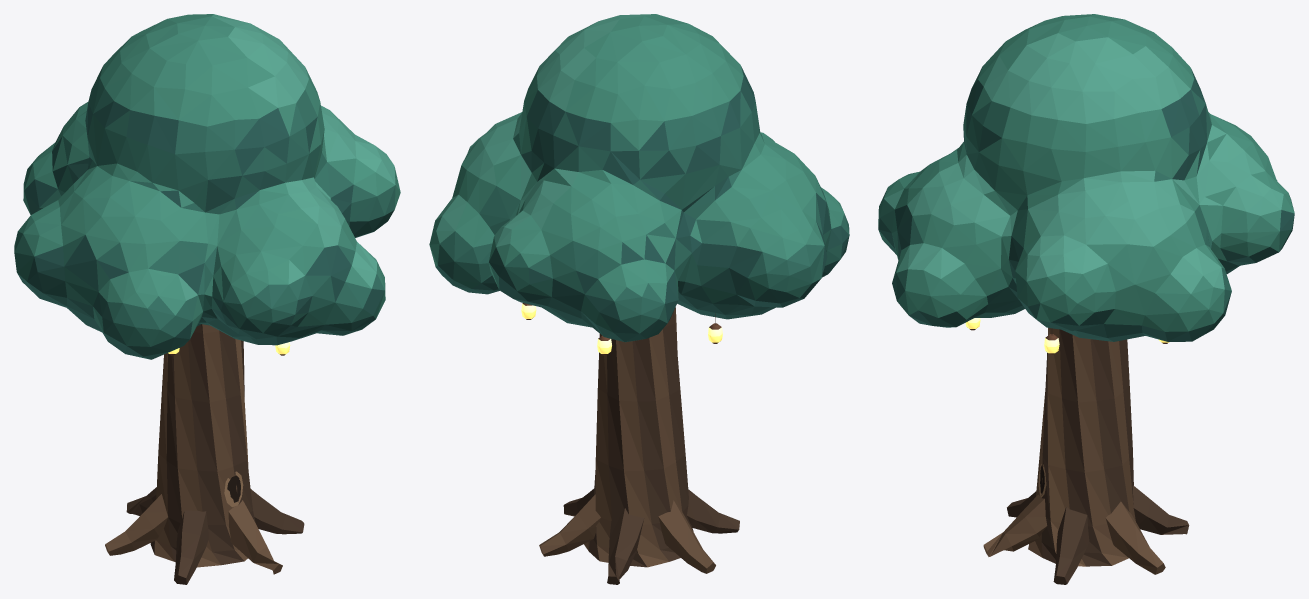
Rendered from great-tree.glb.
The picture shows the model from 3 angles, left to right: view 1: azimuth 30°, elevation 25°; view 2: azimuth 150°, elevation 25°; view 3: azimuth 270°, elevation 25°; orthographic projection.
Visible parts, largest first — view 1: great-tree; view 2: great-tree; view 3: great-tree.
Part boxes in pixels (bbox=[...]): great-tree: bbox=[14, 14, 400, 584]; great-tree: bbox=[429, 14, 849, 584]; great-tree: bbox=[878, 14, 1294, 584].
Bounding box in the file's own units: 50 × 68.6 × 50.
